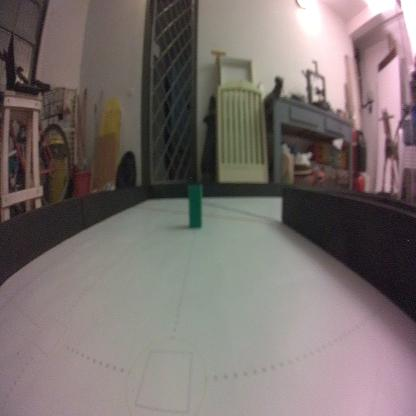green: (187, 183, 205, 231)
